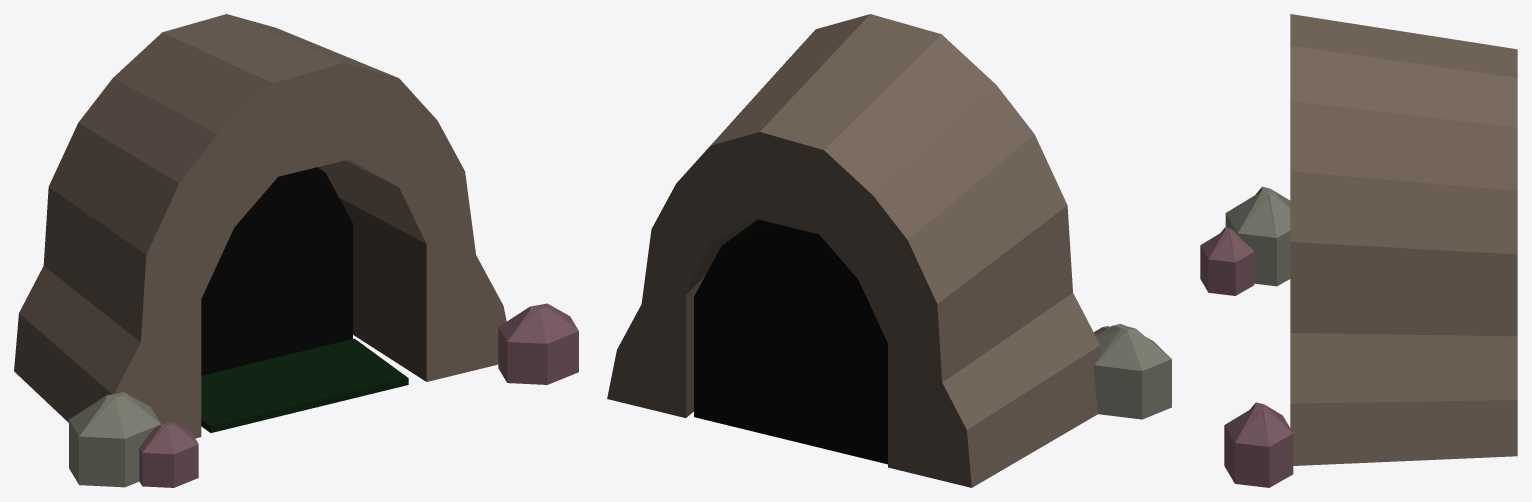
File: cqf_tunnel.obj
3 views of the same model, side by side, from view 1: azimuth 30°, elevation 25°; view 2: azimuth 150°, elevation 25°; view 3: azimuth 270°, elevation 25° (orthographic).
Size of the model in its own units: 0.9083 by 0.59 by 0.5029.
